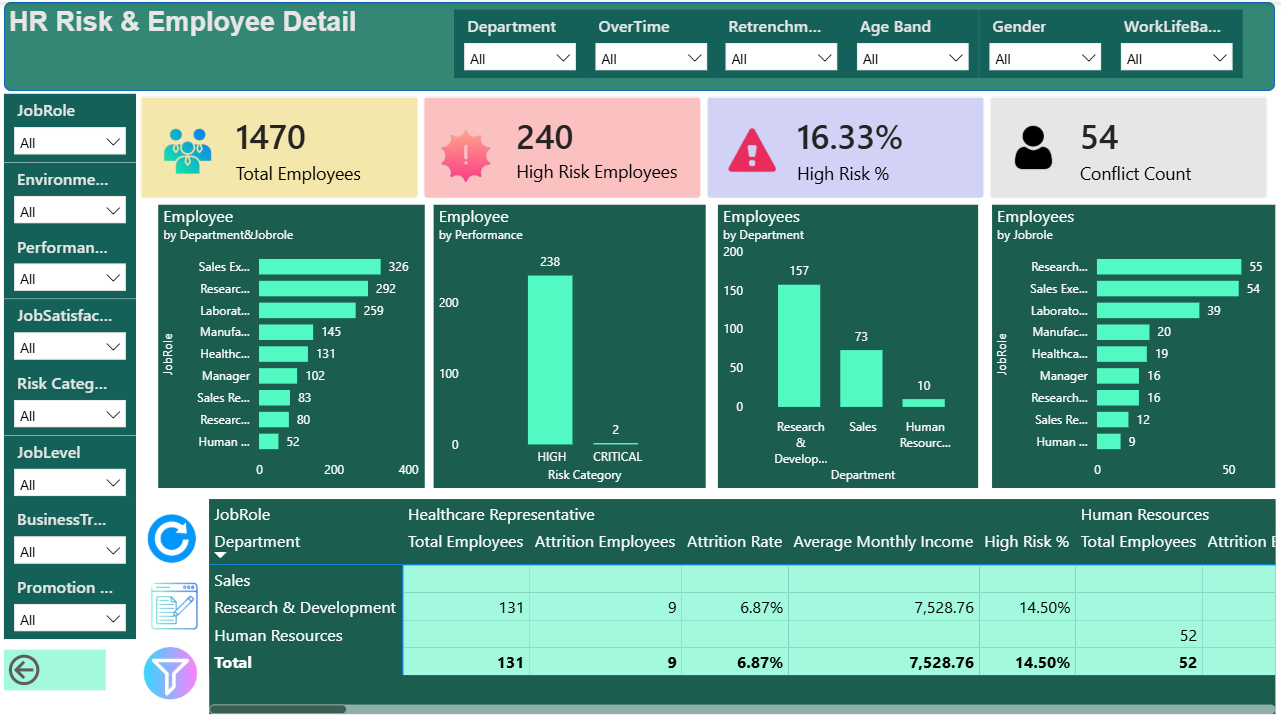

What the dashboard file says about the page in this screenshot:
{"tool":"powerbi","page":{"name":"HR Risk & Employee Detail","canvas":[1280,720],"ordinal":6},"visuals":[{"type":"shape","box":[9.1,0,1253,87.9],"z":0},{"type":"textbox","box":[9,0,374.5,47.7],"z":1000},{"type":"cardVisual","fields":{"Data":["#MEASURES.Total Employees","#MEASURES.High Risk Employees","#MEASURES.High Risk %","#MEASURES.Promotion + Retrenchment Conflict"]},"box":[138.7,88,1123.4,111.9],"z":2000},{"type":"clusteredBarChart","title":"Employee","fields":{"Category":["HR.Department","HR.JobRole"],"Y":["#MEASURES.Total Employees"]},"box":[160.9,199.8,262.6,279],"z":3000},{"type":"clusteredColumnChart","title":"Employee","fields":{"Category":["HR.Risk Category"],"Y":["#MEASURES.High Risk Employees"]},"box":[432.7,199.9,268.5,279],"z":4000},{"type":"clusteredColumnChart","title":"Employees  ","fields":{"Category":["HR.Department"],"Y":["#MEASURES.High Risk Employees"]},"box":[713.1,199.9,256.6,279],"z":5000},{"type":"clusteredBarChart","title":"Employees  ","fields":{"Category":["HR.JobRole"],"Y":["#MEASURES.High Risk Employees"]},"box":[983.2,199.9,279,279],"z":6000},{"type":"pivotTable","fields":{"Columns":["HR.JobRole"],"Rows":["HR.Department"],"Values":["#MEASURES.Total Employees","#MEASURES.Attrition Employees","#MEASURES.Attrition Rate","#MEASURES.Average Monthly Income","#MEASURES.High Risk %"]},"box":[211.7,489.6,1051,211.7],"z":7000},{"type":"slicer","fields":{"Values":["HR.Department"]},"box":[452.1,7.5,130,67.1],"z":8000},{"type":"slicer","fields":{"Values":["HR.BusinessTravel"]},"box":[9,493.8,130,67.1],"z":9000},{"type":"slicer","fields":{"Values":["HR.JobLevel"]},"box":[9,426.7,130,67.1],"z":10000},{"type":"slicer","fields":{"Values":["HR.Risk Category"]},"box":[9,359.6,130,67.1],"z":11000},{"type":"slicer","fields":{"Values":["HR.JobSatisfaction"]},"box":[9,292.4,130,67.1],"z":12000},{"type":"slicer","fields":{"Values":["HR.PerformanceRating"]},"box":[9,225.3,130,67.1],"z":13000},{"type":"slicer","fields":{"Values":["HR.EnvironmentSatisfaction"]},"box":[9,158.1,130,67.1],"z":14000},{"type":"slicer","fields":{"Values":["HR.JobRole"]},"box":[9,91,130,67.1],"z":15000},{"type":"slicer","fields":{"Values":["HR.OverTime"]},"box":[581.8,7.5,130,67.1],"z":16000},{"type":"slicer","fields":{"Values":["HR.Promotion Flag"]},"box":[9,561,130,67.1],"z":17000},{"type":"slicer","fields":{"Values":["HR.Age Band"]},"box":[840,7.5,130,67.1],"z":18000},{"type":"slicer","fields":{"Values":["HR.Retrenchment Flag"]},"box":[710.2,7.5,130,67.1],"z":19000},{"type":"slicer","fields":{"Values":["HR.Gender"]},"box":[969.7,7.5,130,67.1],"z":20000},{"type":"slicer","fields":{"Values":["HR.WorkLifeBalance"]},"box":[1099.5,7.5,130,67.1],"z":21000},{"type":"actionButton","box":[9,638.5,100,40],"z":22000},{"type":"image","box":[140.2,493.8,71.8,68],"z":23000},{"type":"image","box":[147.7,544.6,56.7,102.1],"z":24000},{"type":"image","box":[140.2,619.1,64.2,77.6],"z":26000}]}

Visuals, with their boxes in screenshot pixels (x1, y1, x2, y2), scaled from the page's 1280x720 canvas onto the 1281x717 screenshot:
shape: (x1=9, y1=0, x2=1263, y2=88)
textbox: (x1=9, y1=0, x2=384, y2=48)
cardVisual - #MEASURES.Total Employees x #MEASURES.High Risk Employees: (x1=139, y1=88, x2=1263, y2=199)
"Employee" clusteredBarChart: (x1=161, y1=199, x2=424, y2=477)
"Employee" clusteredColumnChart: (x1=433, y1=199, x2=702, y2=477)
"Employees  " clusteredColumnChart: (x1=714, y1=199, x2=970, y2=477)
"Employees  " clusteredBarChart: (x1=984, y1=199, x2=1263, y2=477)
pivotTable - HR.JobRole x HR.Department: (x1=212, y1=488, x2=1264, y2=698)
slicer - HR.Department: (x1=452, y1=7, x2=583, y2=74)
slicer - HR.BusinessTravel: (x1=9, y1=492, x2=139, y2=559)
slicer - HR.JobLevel: (x1=9, y1=425, x2=139, y2=492)
slicer - HR.Risk Category: (x1=9, y1=358, x2=139, y2=425)
slicer - HR.JobSatisfaction: (x1=9, y1=291, x2=139, y2=358)
slicer - HR.PerformanceRating: (x1=9, y1=224, x2=139, y2=291)
slicer - HR.EnvironmentSatisfaction: (x1=9, y1=157, x2=139, y2=224)
slicer - HR.JobRole: (x1=9, y1=91, x2=139, y2=157)
slicer - HR.OverTime: (x1=582, y1=7, x2=712, y2=74)
slicer - HR.Promotion Flag: (x1=9, y1=559, x2=139, y2=625)
slicer - HR.Age Band: (x1=841, y1=7, x2=971, y2=74)
slicer - HR.Retrenchment Flag: (x1=711, y1=7, x2=841, y2=74)
slicer - HR.Gender: (x1=970, y1=7, x2=1101, y2=74)
slicer - HR.WorkLifeBalance: (x1=1100, y1=7, x2=1230, y2=74)
actionButton: (x1=9, y1=636, x2=109, y2=676)
image: (x1=140, y1=492, x2=212, y2=559)
image: (x1=148, y1=542, x2=205, y2=644)
image: (x1=140, y1=617, x2=205, y2=694)
